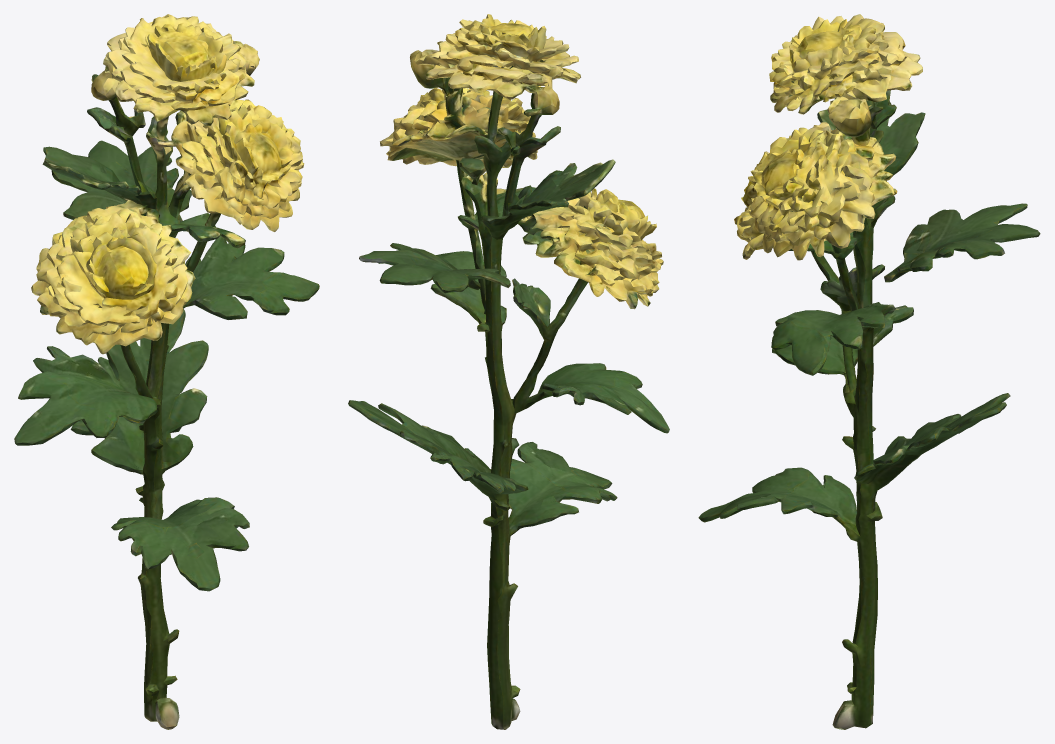
Rendered from lux-spray-chrysanthemum.glb.
3 renders of one model, left to right at view 1: azimuth 30°, elevation 25°; view 2: azimuth 150°, elevation 25°; view 3: azimuth 270°, elevation 25°, orthographic.
Parts seen in each view (by area): view 1: geometry_0; view 2: geometry_0; view 3: geometry_0.
Part boxes in pixels (<box>): geometry_0: <box>14,14,319,729</box>; geometry_0: <box>348,14,669,729</box>; geometry_0: <box>698,14,1040,729</box>.
Size of the model in its own units: 0.286 by 0.65 by 0.286.
1 material, 1 textured.
